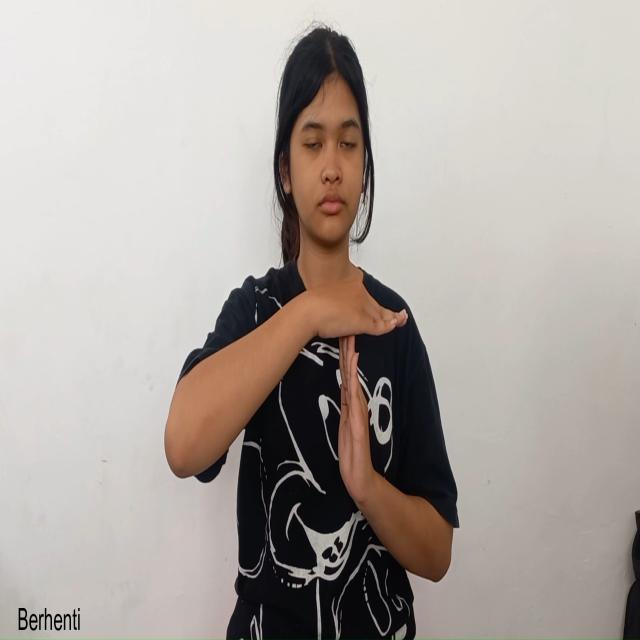Berhenti -BISINDO-: (238, 274, 410, 576)
